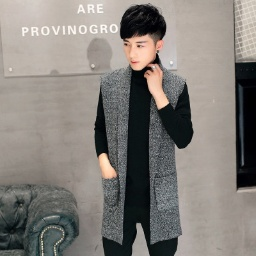face: (117, 3, 169, 72)
